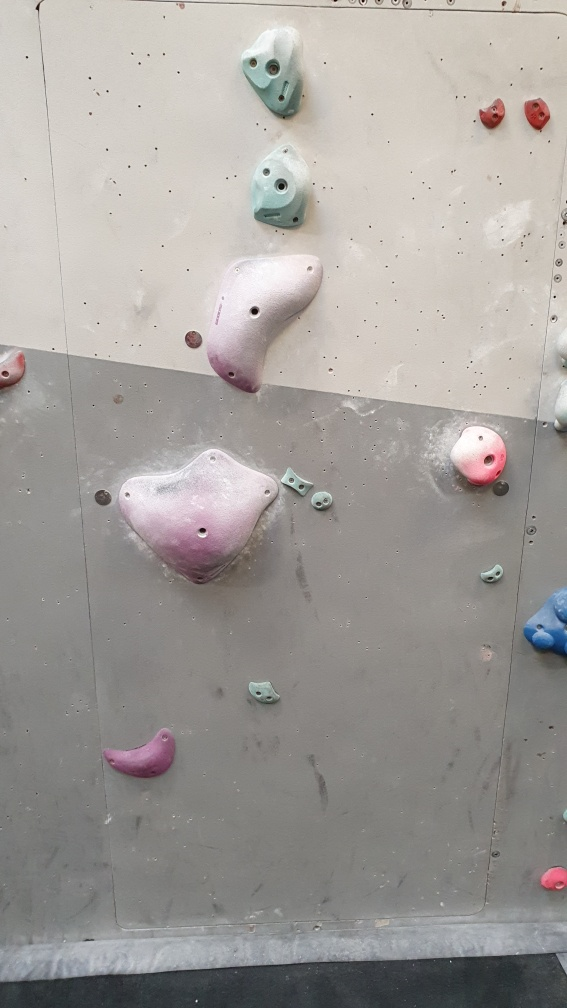Hand Start: (183, 326, 206, 352), (491, 480, 516, 498), (92, 489, 114, 506)
Jug: (236, 21, 317, 120), (250, 137, 317, 230)
Pinch: (279, 470, 318, 498), (477, 561, 509, 590)
Sloper: (522, 586, 567, 659)
